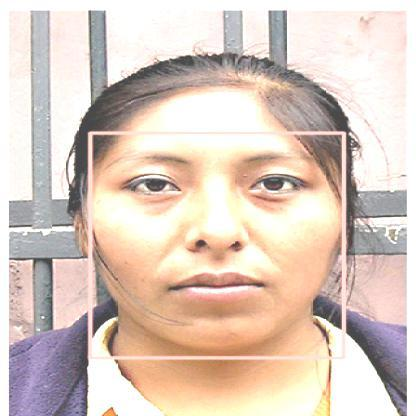without_mask: (90, 133, 343, 358)
